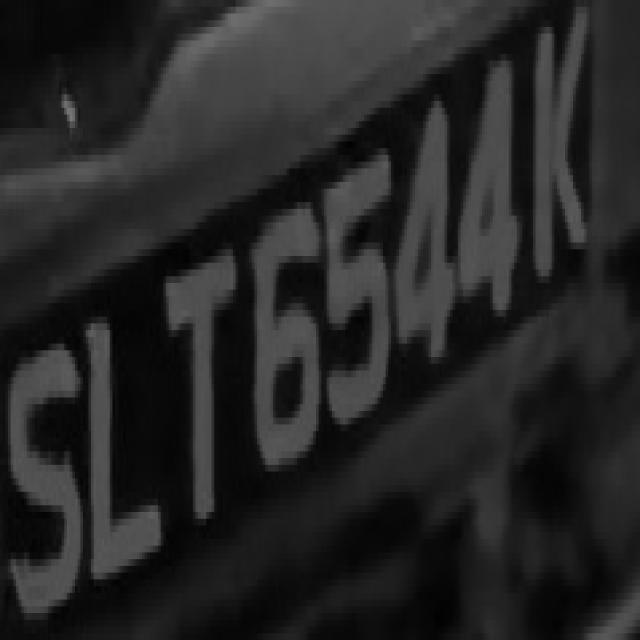4: (388, 81, 461, 364), (458, 67, 525, 370)
5: (321, 121, 391, 445)
6: (246, 175, 327, 492)
K: (520, 13, 597, 296)
L: (78, 296, 168, 606)
S: (11, 323, 83, 620)
T: (153, 242, 246, 539)
